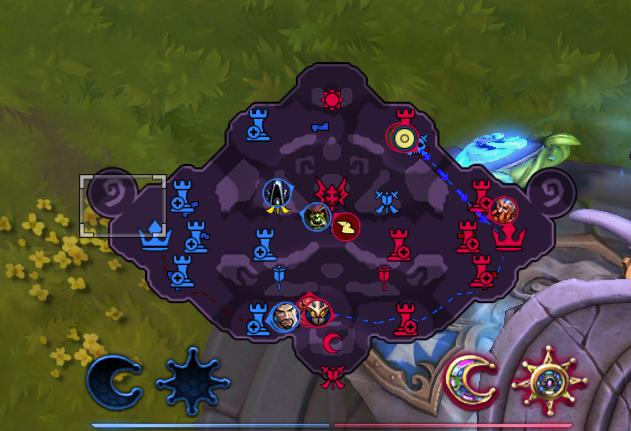blue nexus: (136, 218, 172, 251)
blue player: (262, 177, 292, 211), (301, 201, 331, 232)
blue tower: (168, 178, 198, 214), (166, 253, 195, 289), (244, 106, 271, 141), (251, 227, 277, 261), (183, 219, 209, 253), (245, 301, 271, 335)
dragon knight: (314, 175, 349, 211)
red player: (297, 293, 333, 327), (389, 122, 422, 157), (269, 301, 300, 332), (488, 195, 518, 225), (330, 211, 360, 241)
red tower: (468, 254, 497, 289), (392, 301, 418, 336), (386, 227, 411, 261), (455, 220, 480, 253), (468, 179, 492, 212)
